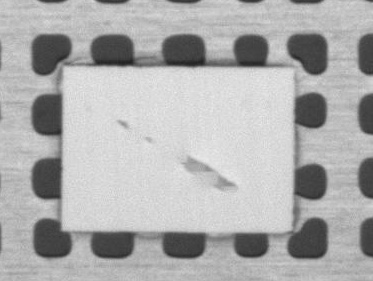DIE_INK: (176, 155, 236, 193), (114, 117, 132, 130), (140, 134, 152, 143)
